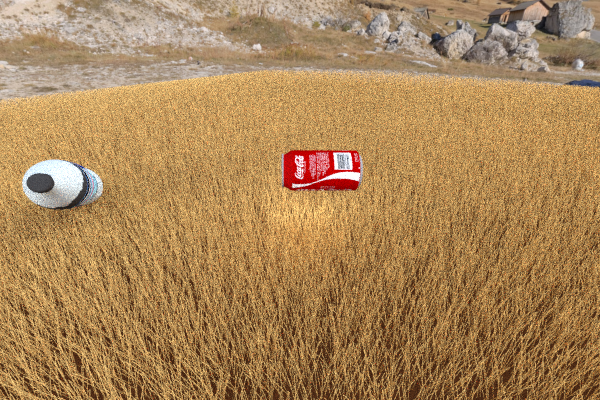Plastic Bottle: (22, 159, 102, 209), (281, 150, 362, 190), (299, 81, 331, 101)
